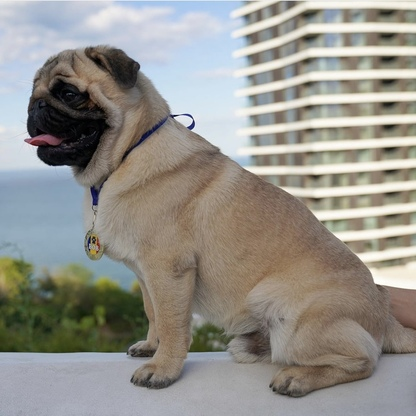Pug: (21, 40, 416, 399)
